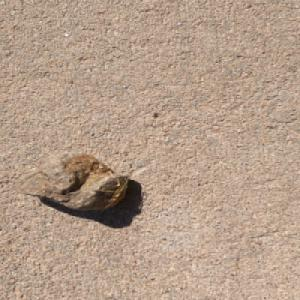Rock: (12, 149, 131, 210)
